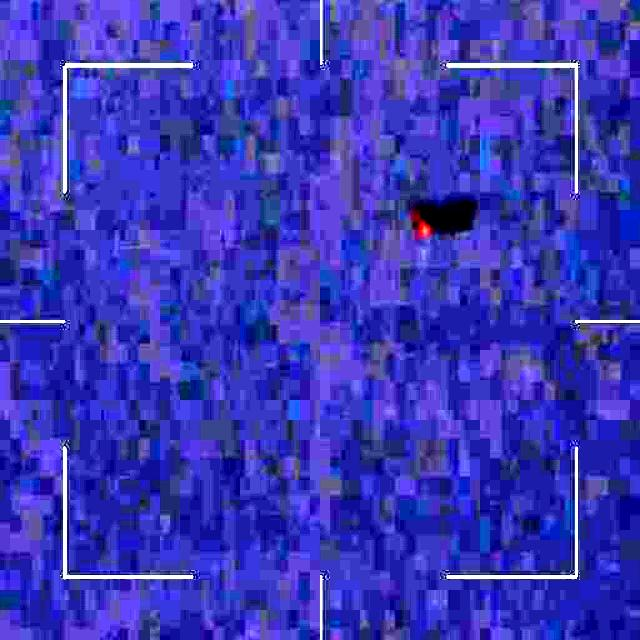bird: (405, 204, 435, 259)
